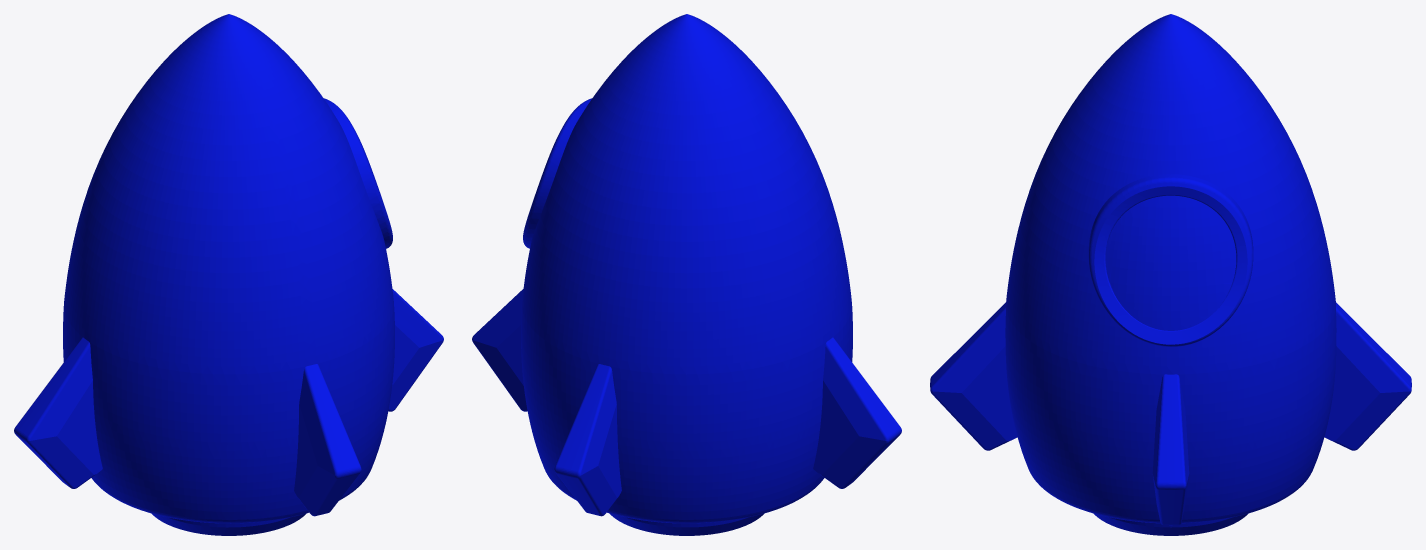
The model's file is shit.glb.
3 renders of one model, left to right at view 1: azimuth 30°, elevation 25°; view 2: azimuth 150°, elevation 25°; view 3: azimuth 270°, elevation 25°, orthographic.
Visible parts, largest first — view 1: exploreHacksRocket v1; view 2: exploreHacksRocket v1; view 3: exploreHacksRocket v1.
Boxes of the visible parts, bbox=[...] form: exploreHacksRocket v1: bbox=[14, 14, 443, 535]; exploreHacksRocket v1: bbox=[472, 14, 901, 535]; exploreHacksRocket v1: bbox=[930, 14, 1411, 535].
Size of the model in its own units: 7.74 by 8.62 by 7.74.
